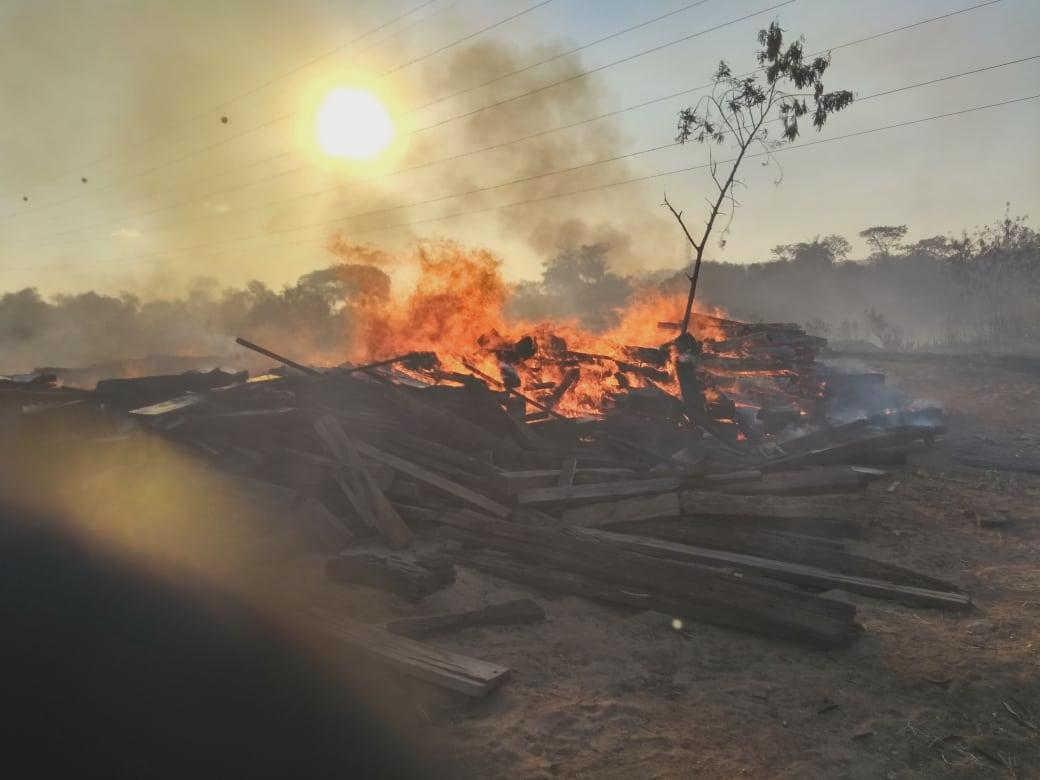Fire: (343, 242, 787, 409)
